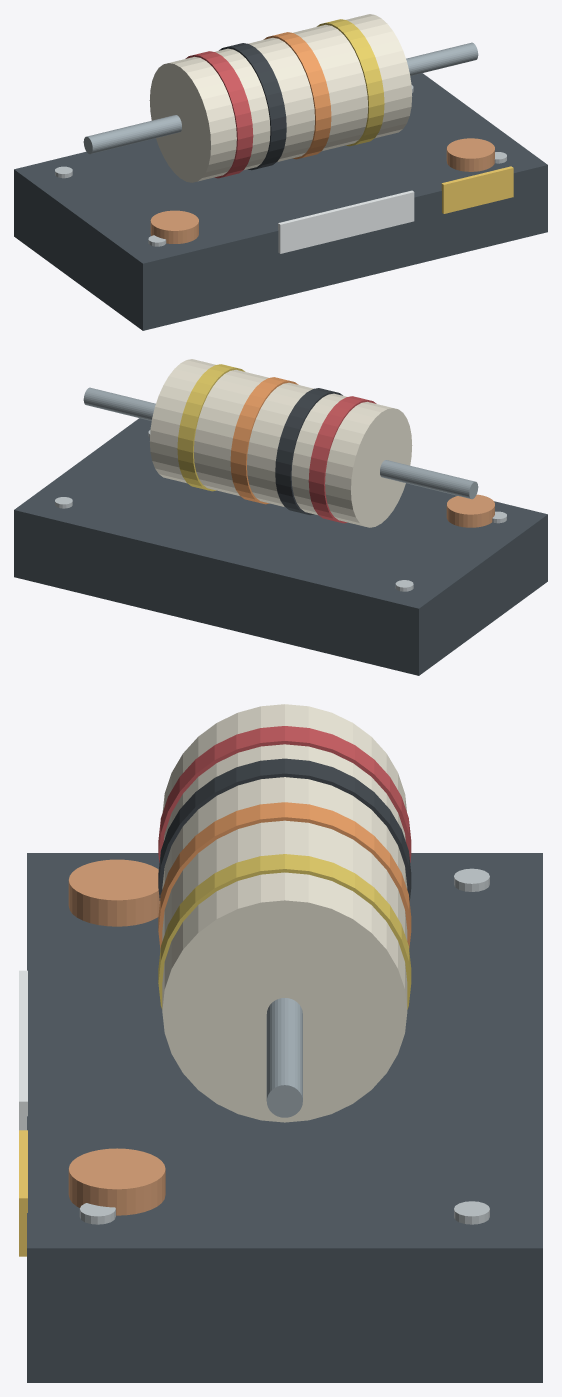
Rendered from resistor_module_lod1.glb.
3 renders of one model, top to bottom at view 1: azimuth 30°, elevation 25°; view 2: azimuth 150°, elevation 25°; view 3: azimuth 270°, elevation 25°, orthographic. The views are drawn at different scales.
Parts seen in each view (by area): view 1: RES_BASE_MAT_POLYMER_BLACK, RES_BODY_MAT_CERAMIC, RES_VALUE_LABEL_MAT_LABEL, RES_HOT_WARNING_MAT_WARNING, RES_BAND_1_MAT_BLACK, RES_BAND_2_MAT_ORANGE, RES_BAND_3_MAT_YELLOW, RES_BAND_0_MAT_RED, RES_LEAD_-0.53_MAT_METAL_BRUSHED, RES_TERMINAL_0.53_MAT_METAL_COPPER, RES_TERMINAL_-0.53_MAT_METAL_COPPER, RES_LEAD_0.53_MAT_METAL_BRUSHED; view 2: RES_BASE_MAT_POLYMER_BLACK, RES_BODY_MAT_CERAMIC, RES_BAND_1_MAT_BLACK, RES_BAND_2_MAT_ORANGE, RES_BAND_3_MAT_YELLOW, RES_BAND_0_MAT_RED, RES_LEAD_-0.53_MAT_METAL_BRUSHED, RES_TERMINAL_-0.53_MAT_METAL_COPPER, RES_LEAD_0.53_MAT_METAL_BRUSHED; view 3: RES_BASE_MAT_POLYMER_BLACK, RES_BODY_MAT_CERAMIC, RES_BAND_3_MAT_YELLOW, RES_BAND_2_MAT_ORANGE, RES_TERMINAL_-0.53_MAT_METAL_COPPER, RES_BAND_1_MAT_BLACK, RES_TERMINAL_0.53_MAT_METAL_COPPER, RES_BAND_0_MAT_RED, RES_LEAD_0.53_MAT_METAL_BRUSHED, RES_VALUE_LABEL_MAT_LABEL, RES_HOT_WARNING_MAT_WARNING.
Part boxes in pixels (left/top/right/bottom): RES_BASE_MAT_POLYMER_BLACK: left=14, top=73, right=547, bottom=330; RES_BODY_MAT_CERAMIC: left=149, top=14, right=412, bottom=182; RES_VALUE_LABEL_MAT_LABEL: left=278, top=190, right=414, bottom=253; RES_HOT_WARNING_MAT_WARNING: left=441, top=166, right=513, bottom=213; RES_BAND_1_MAT_BLACK: left=219, top=43, right=286, bottom=170; RES_BAND_2_MAT_ORANGE: left=263, top=32, right=331, bottom=159; RES_BAND_3_MAT_YELLOW: left=316, top=19, right=384, bottom=146; RES_BAND_0_MAT_RED: left=185, top=51, right=253, bottom=178; RES_LEAD_-0.53_MAT_METAL_BRUSHED: left=83, top=115, right=181, bottom=154; RES_TERMINAL_0.53_MAT_METAL_COPPER: left=446, top=138, right=494, bottom=171; RES_TERMINAL_-0.53_MAT_METAL_COPPER: left=150, top=210, right=198, bottom=243; RES_LEAD_0.53_MAT_METAL_BRUSHED: left=406, top=42, right=478, bottom=75; RES_BASE_MAT_POLYMER_BLACK: left=14, top=418, right=547, bottom=675; RES_BODY_MAT_CERAMIC: left=149, top=359, right=412, bottom=527; RES_BAND_1_MAT_BLACK: left=275, top=388, right=342, bottom=515; RES_BAND_2_MAT_ORANGE: left=230, top=377, right=298, bottom=504; RES_BAND_3_MAT_YELLOW: left=177, top=364, right=245, bottom=491; RES_BAND_0_MAT_RED: left=308, top=396, right=376, bottom=523; RES_LEAD_-0.53_MAT_METAL_BRUSHED: left=380, top=460, right=478, bottom=499; RES_TERMINAL_-0.53_MAT_METAL_COPPER: left=446, top=494, right=494, bottom=527; RES_LEAD_0.53_MAT_METAL_BRUSHED: left=83, top=387, right=155, bottom=420; RES_BASE_MAT_POLYMER_BLACK: left=27, top=853, right=542, bottom=1382; RES_BODY_MAT_CERAMIC: left=162, top=704, right=407, bottom=1122; RES_BAND_3_MAT_YELLOW: left=158, top=854, right=411, bottom=1009; RES_BAND_2_MAT_ORANGE: left=158, top=802, right=411, bottom=949; RES_TERMINAL_-0.53_MAT_METAL_COPPER: left=68, top=859, right=159, bottom=926; RES_BAND_1_MAT_BLACK: left=158, top=758, right=411, bottom=901; RES_TERMINAL_0.53_MAT_METAL_COPPER: left=68, top=1148, right=165, bottom=1215; RES_BAND_0_MAT_RED: left=158, top=726, right=411, bottom=862; RES_LEAD_0.53_MAT_METAL_BRUSHED: left=266, top=998, right=302, bottom=1117; RES_VALUE_LABEL_MAT_LABEL: left=19, top=970, right=27, bottom=1130; RES_HOT_WARNING_MAT_WARNING: left=19, top=1130, right=27, bottom=1256.
Bounding box in the file's own units: 1.45 × 0.661 × 0.812.
